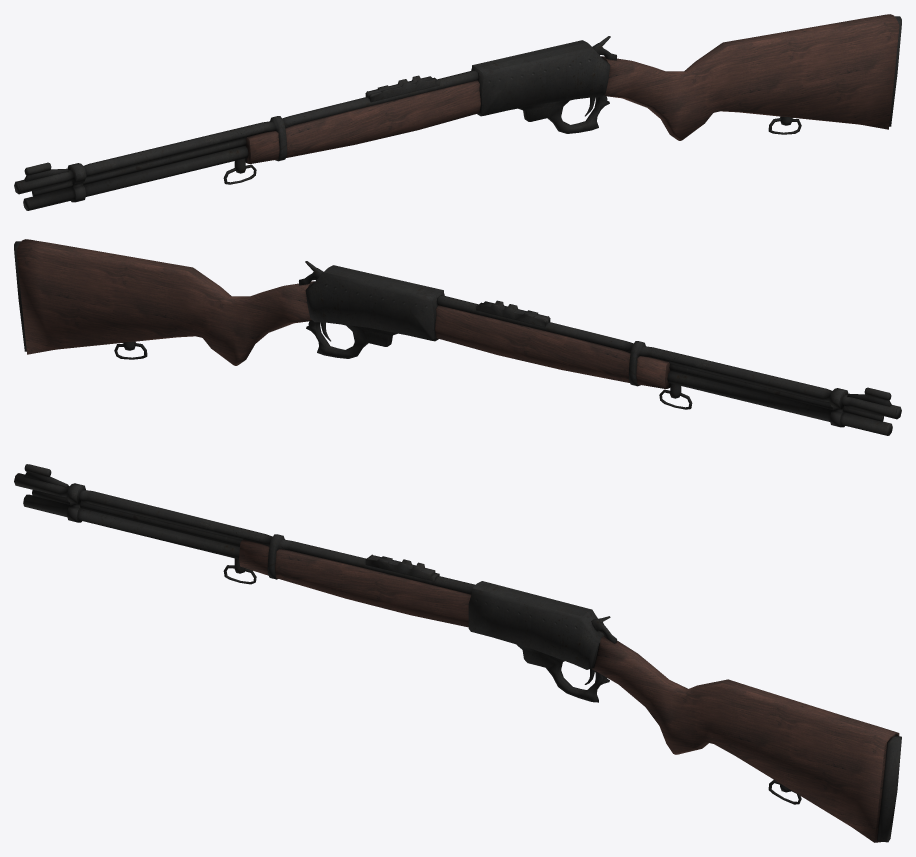
File: hunting-rifle__Hunting_Rifle__Hunting_Rifle.glb
3 renders of one model, top to bottom at view 1: azimuth 30°, elevation 25°; view 2: azimuth 150°, elevation 25°; view 3: azimuth 330°, elevation 25°, orthographic.
Parts seen in each view (by area): view 1: Hunting Rifle; view 2: Hunting Rifle; view 3: Hunting Rifle.
Boxes of the visible parts, left/top/right/bottom form: Hunting Rifle: left=14, top=14, right=901, bottom=210; Hunting Rifle: left=14, top=239, right=901, bottom=435; Hunting Rifle: left=14, top=464, right=901, bottom=842.
Size of the model in its own units: 1.83 by 0.3339 by 0.0547.
Materials: 1 (1 with a texture image).
